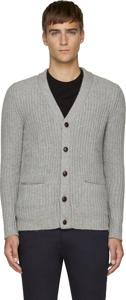S_cardigan sweater: (1, 75, 126, 246)
